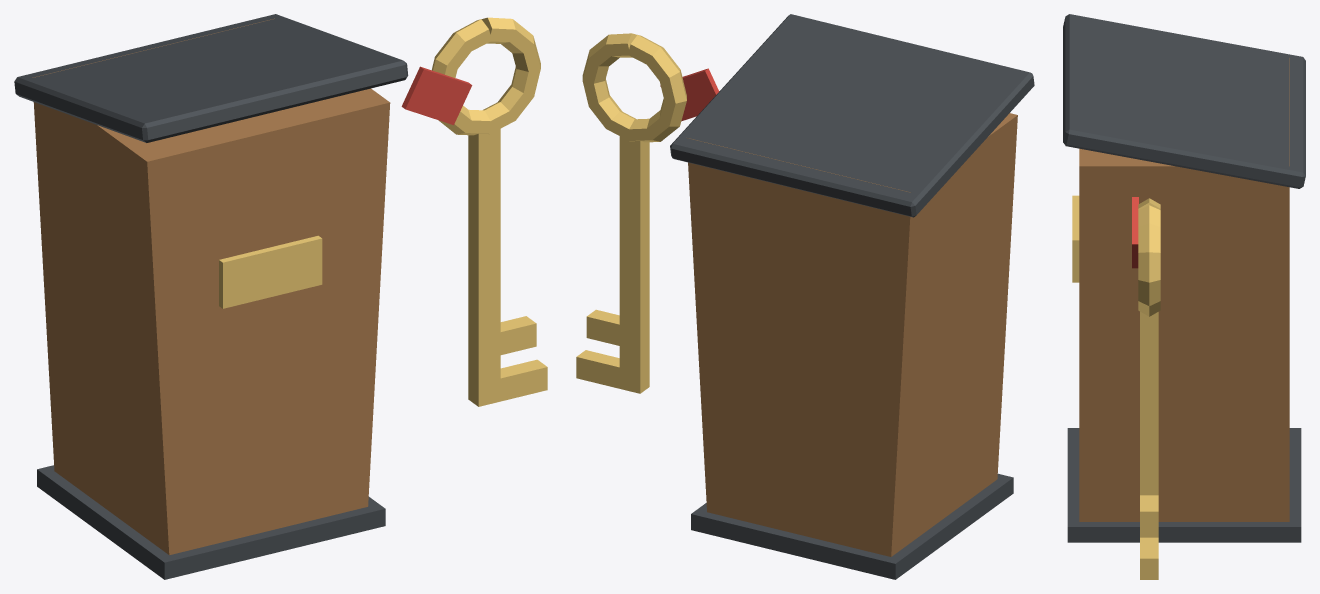
File: valet.glb
3 views of the same model, side by side, from view 1: azimuth 30°, elevation 25°; view 2: azimuth 150°, elevation 25°; view 3: azimuth 270°, elevation 25° (orthographic). The views are drawn at different scales.
Parts seen in each view (by area): view 1: valet; view 2: valet; view 3: valet.
Part boxes in pixels (<box>): valet: <box>14,14,547,579</box>; valet: <box>576,14,1034,579</box>; valet: <box>1063,14,1305,579</box>.
Size of the model in its own units: 0.4025 by 0.3981 by 0.2078.
